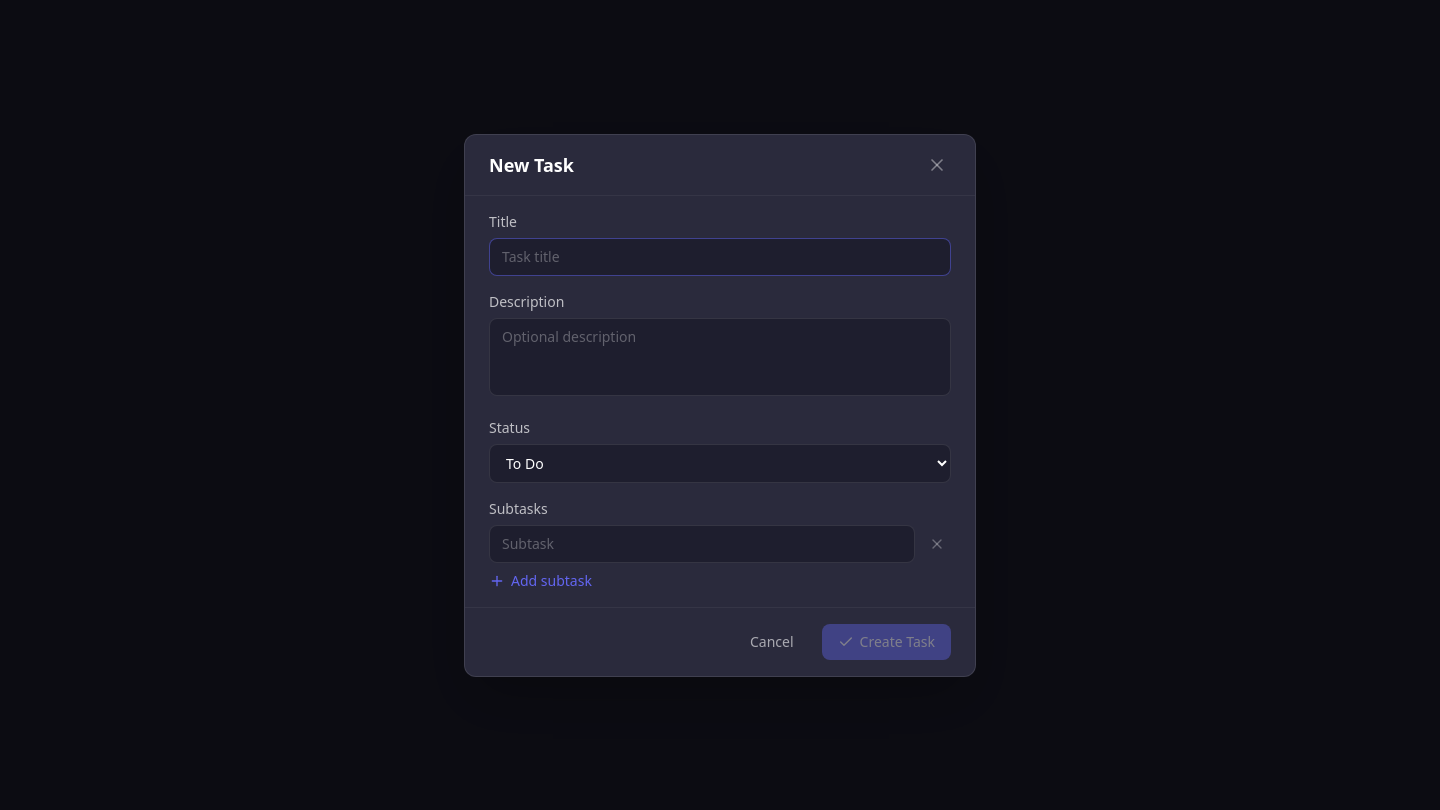
Test: TaskModal - Create › enables submit button when title is filled
Type "New task" into the field with placeholder "Task title" at (720, 256), box [489,238,951,276]
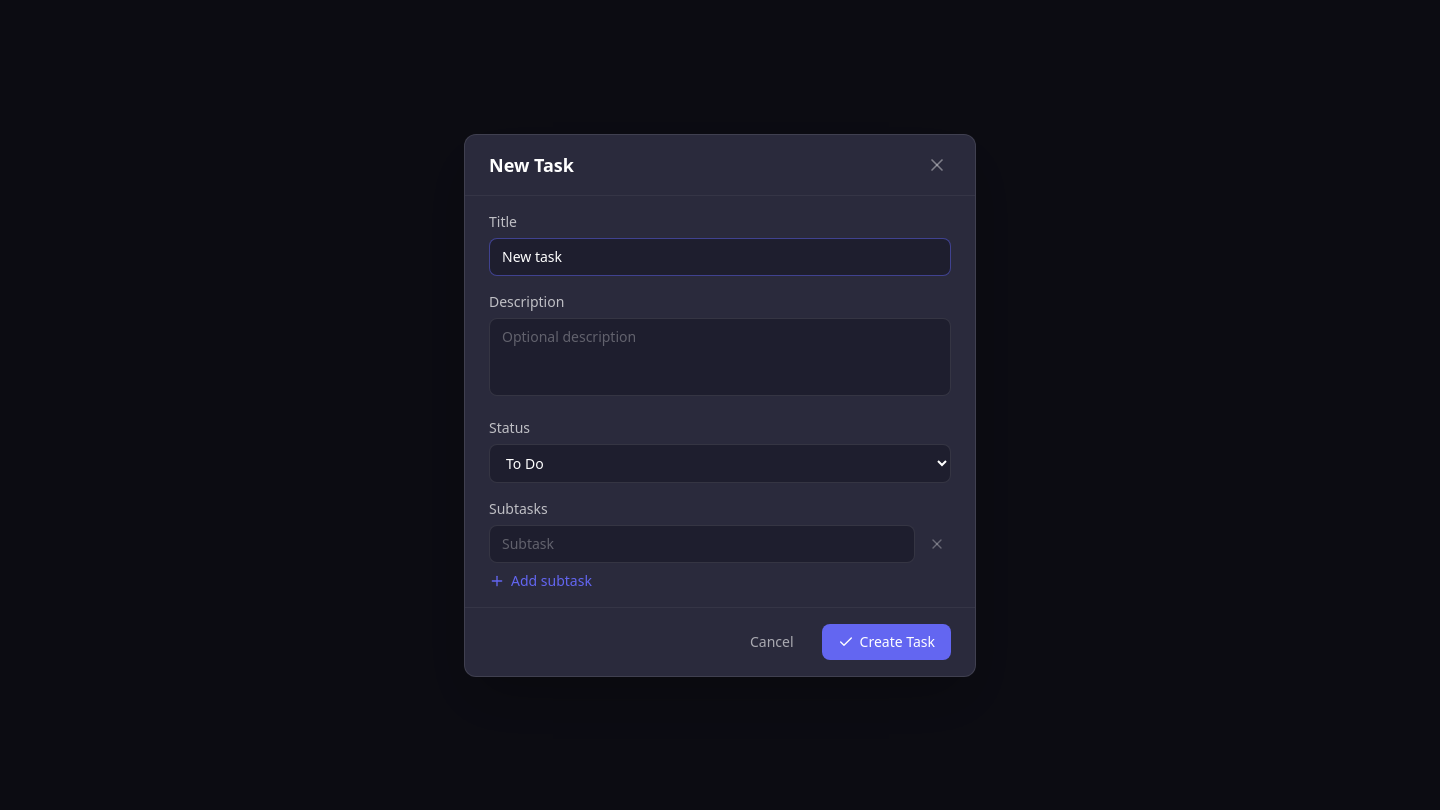
Expected: the button "Create Task" is enabled, [822,624,951,660]
